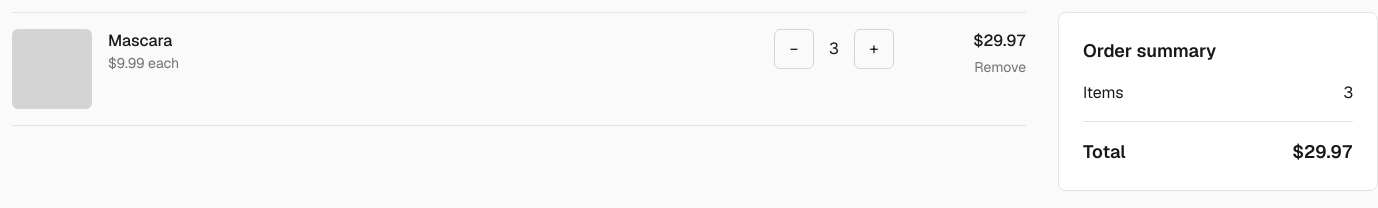
Test: cart page › removes a line and shows the empty state when nothing is left
Click the button with aria-label "Remove Mascara" at (1000, 67), box [974,57,1026,77]
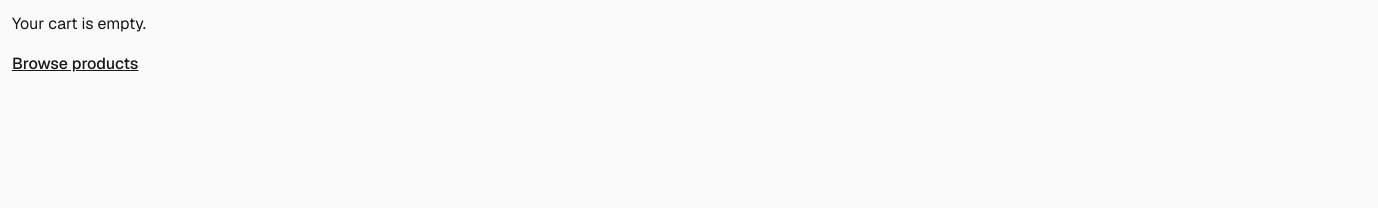
Check: the link "Mascara" is gone
Check: the text "Your cart is empty." is shown, box [12,13,146,34]
